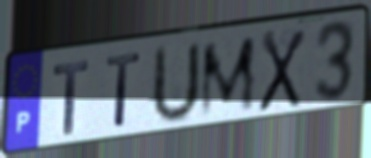3: (313, 18, 358, 107)
M: (197, 33, 258, 122)
T: (104, 50, 144, 131), (51, 57, 90, 138)
U: (148, 38, 203, 129)
X: (256, 26, 308, 115)
